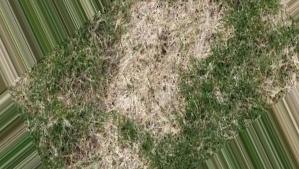patch: (147, 8, 175, 112), (121, 48, 149, 117), (183, 14, 209, 49)
